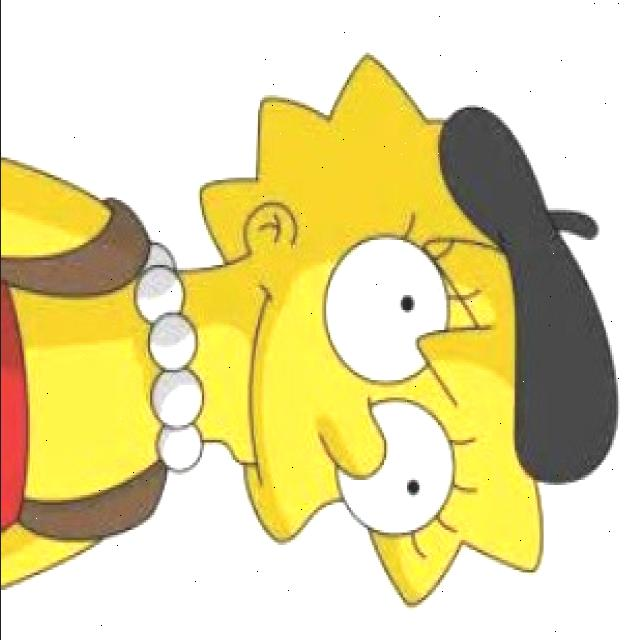Lisa Simpson: (133, 56, 546, 614)
